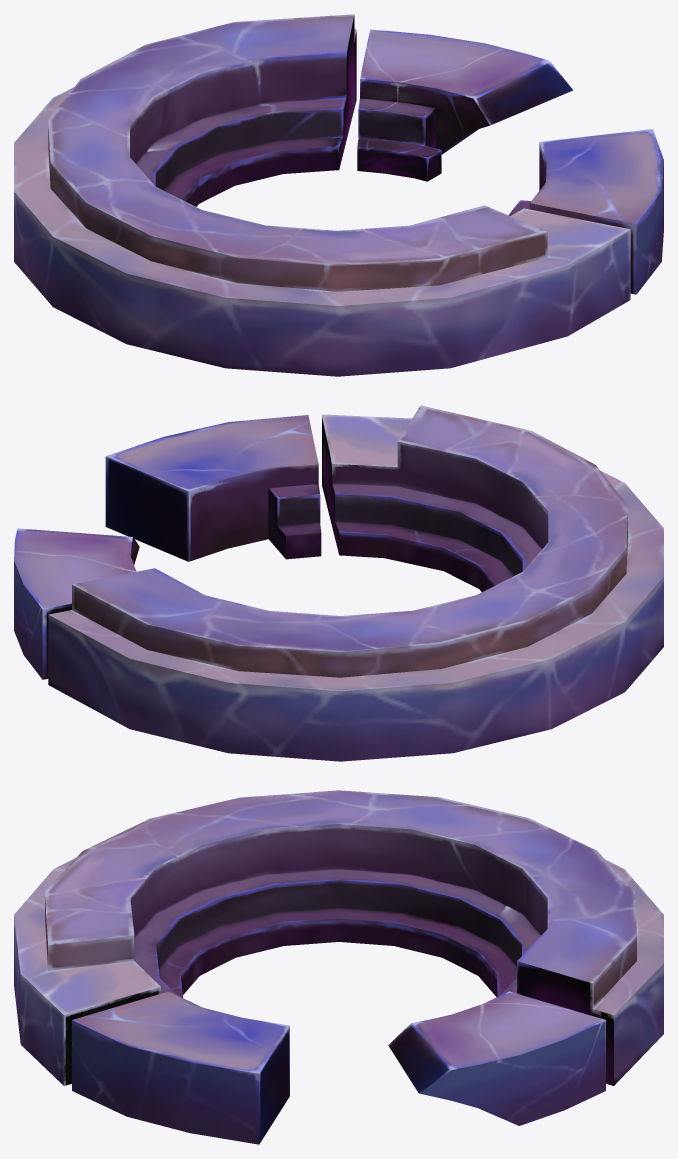
File: zhanxingtai_1.FBX
3 views of the same model, one above another, from view 1: azimuth 30°, elevation 25°; view 2: azimuth 150°, elevation 25°; view 3: azimuth 270°, elevation 25° (orthographic).
Parts seen in each view (by area): view 1: zhanxingtai_1; view 2: zhanxingtai_1; view 3: zhanxingtai_1.
Part boxes in pixels (x1,y1,x2,y2): zhanxingtai_1: [14, 14, 663, 376]; zhanxingtai_1: [14, 405, 663, 761]; zhanxingtai_1: [14, 790, 663, 1144].
Bounding box in the file's own units: 74.01 × 12.13 × 74.12.
